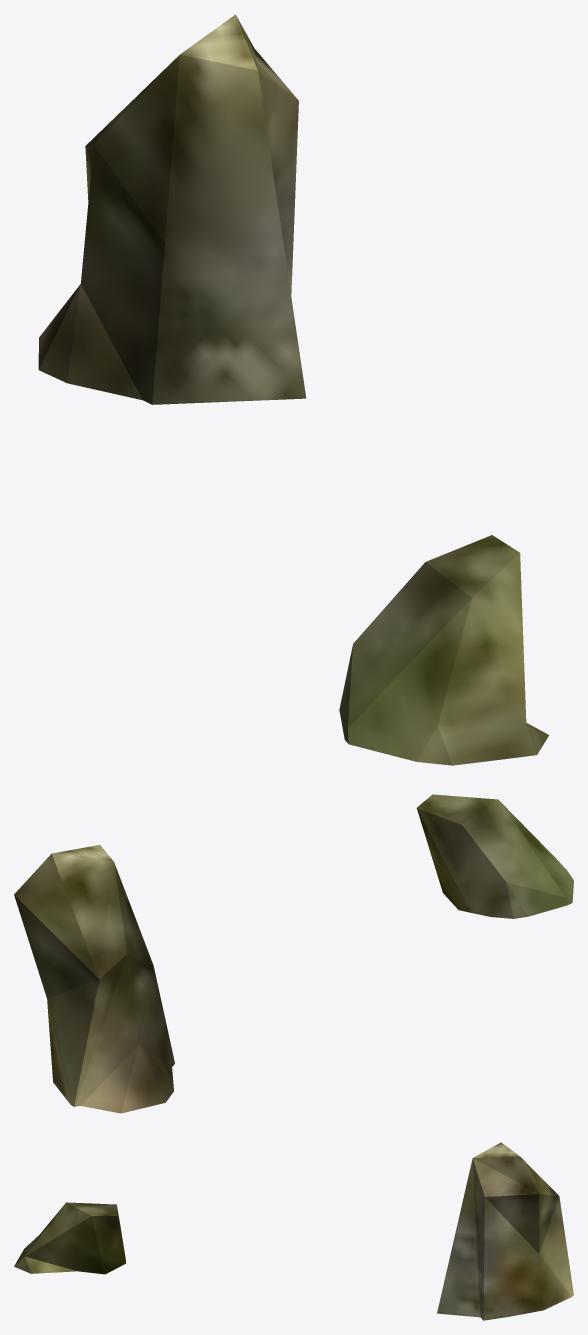
The picture shows the model from 3 angles, top to bottom: view 1: azimuth 30°, elevation 25°; view 2: azimuth 150°, elevation 25°; view 3: azimuth 270°, elevation 25°; orthographic projection. The views are drawn at different scales.
Size of the model in its own units: 0.1889 by 0.1551 by 0.4915.
1 material, 1 textured.
